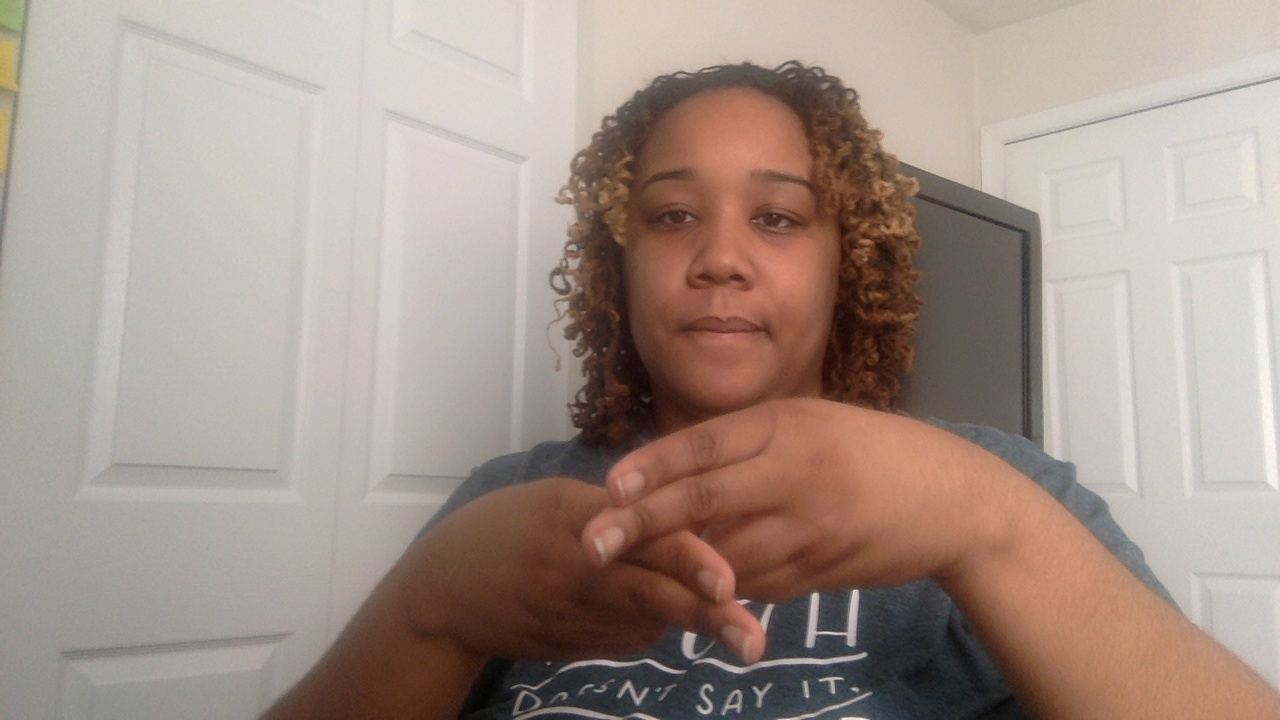name: (420, 398, 1080, 667)
